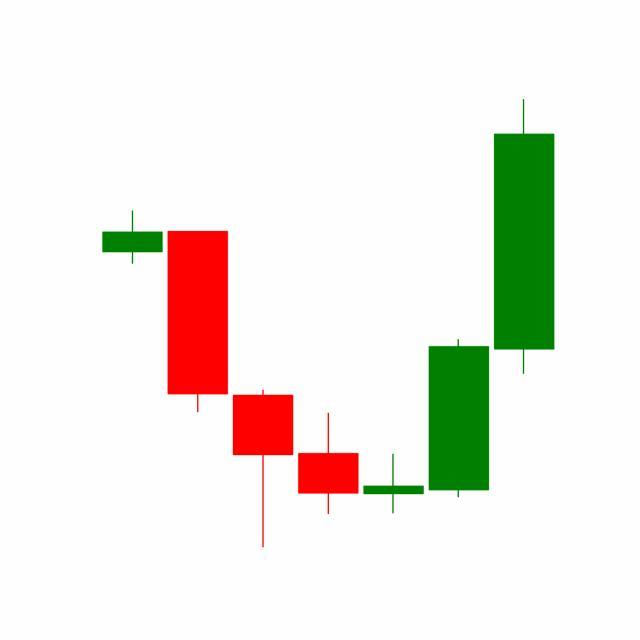Hikkake Pattern: (165, 226, 492, 548)
